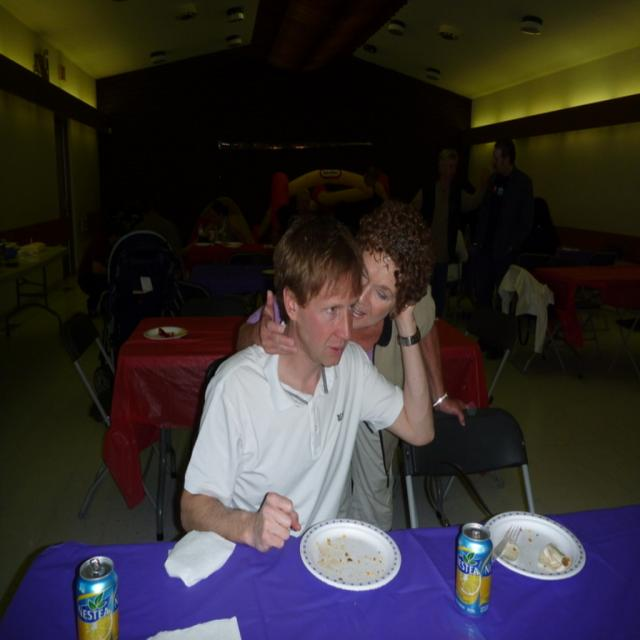non-organic waste: (298, 507, 410, 630)
